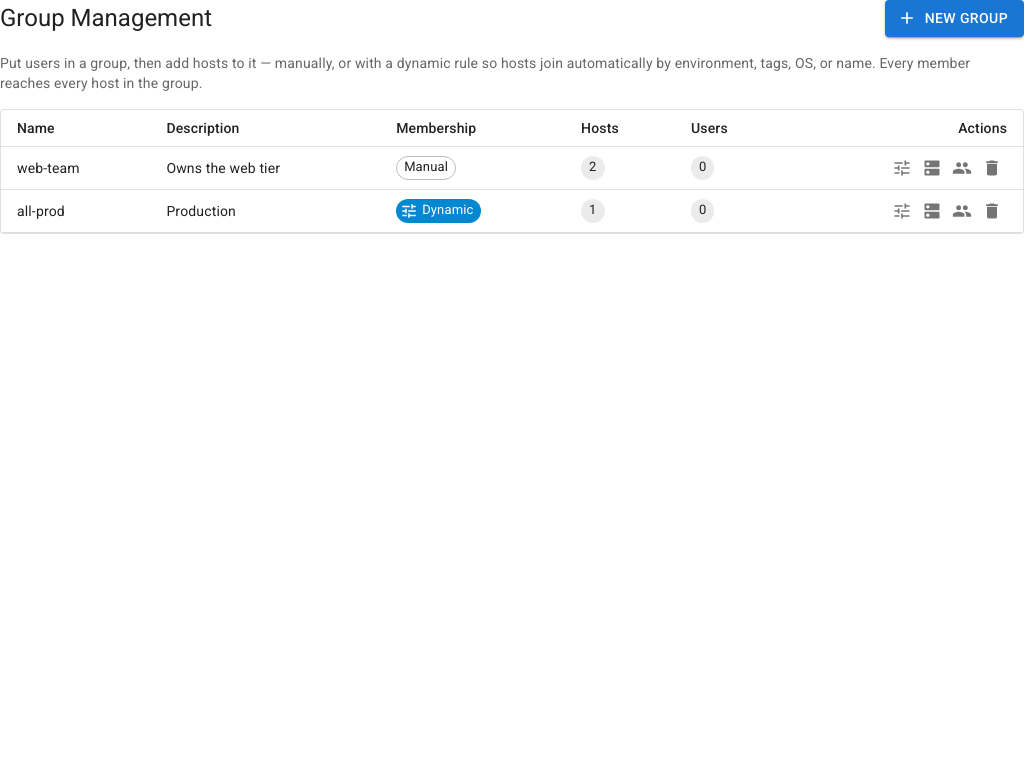
Test: GroupsPage host membership › withholds editing from a viewer without Host.Edit
Click the button named "Manage hosts in web-team".
click(932, 168)  # box [917,152,947,182]
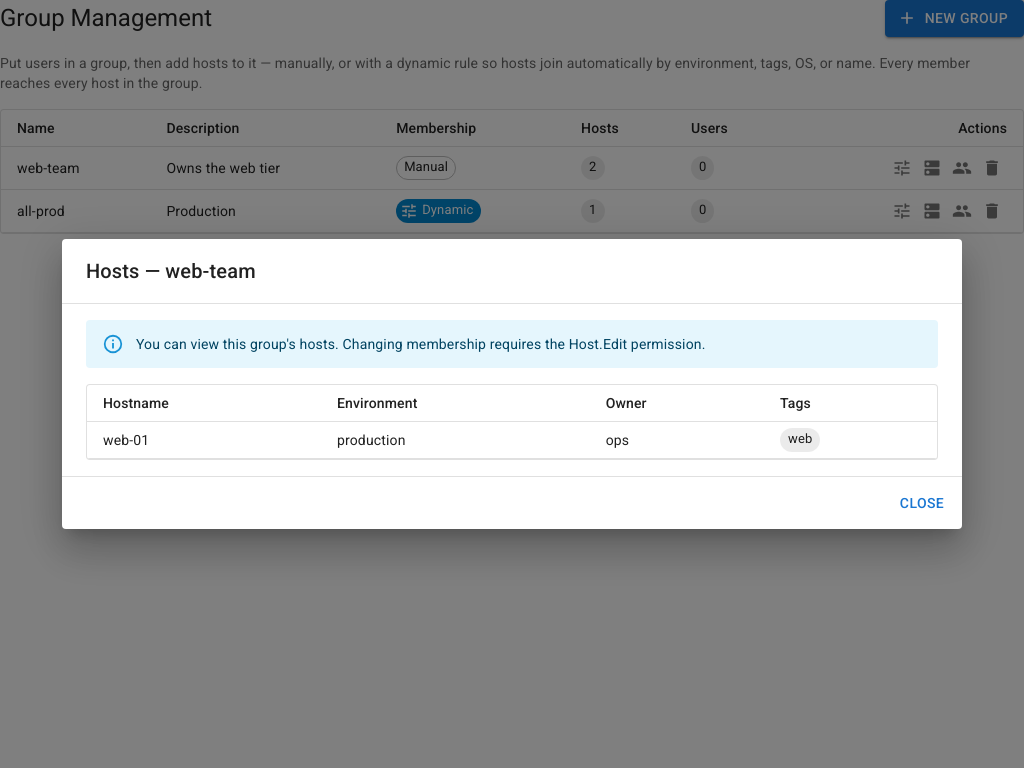
Expected: the text "requires the Host.Edit permission" is shown, [136,336,706,352]
